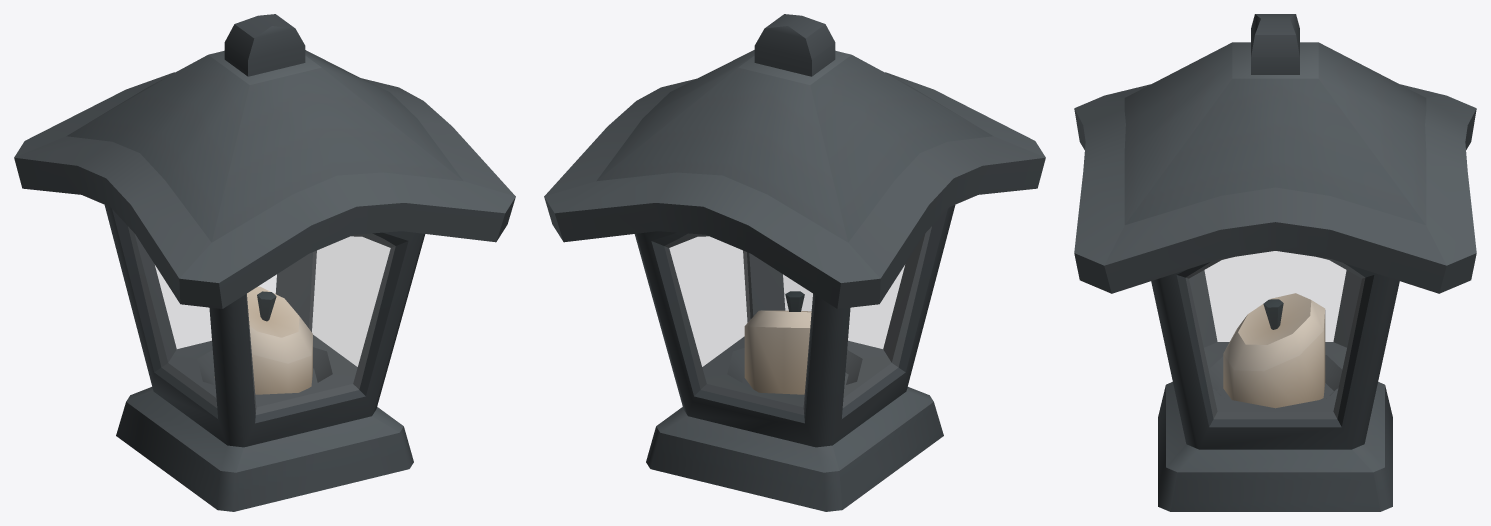
The model's file is lantern.obj.
3 views of the same model, side by side, from view 1: azimuth 30°, elevation 25°; view 2: azimuth 150°, elevation 25°; view 3: azimuth 270°, elevation 25° (orthographic). The views are drawn at different scales.
Visible parts, largest first — view 1: lantern; view 2: lantern; view 3: lantern.
Part boxes in pixels (box(x1,y1,x2,y2)): lantern: box(14, 14, 515, 511); lantern: box(544, 14, 1045, 511); lantern: box(1074, 14, 1476, 511).
Bounding box in the file's own units: 0.7528 × 0.9252 × 0.7528.
Materials: 2 (1 with a texture image).
